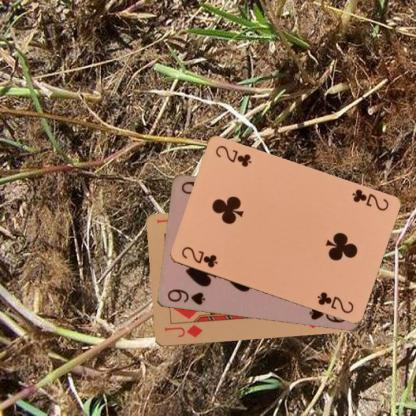2c: (348, 186, 390, 213), (179, 244, 219, 269)
9s: (165, 287, 206, 306)
Jd: (162, 322, 204, 340)
